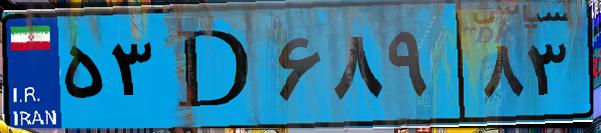3: (525, 38, 570, 115), (110, 28, 158, 98)
5: (57, 26, 110, 100)
6: (270, 28, 330, 110)
8: (330, 28, 385, 110), (475, 38, 525, 113)
9: (385, 28, 445, 110)
D: (158, 12, 270, 120)
